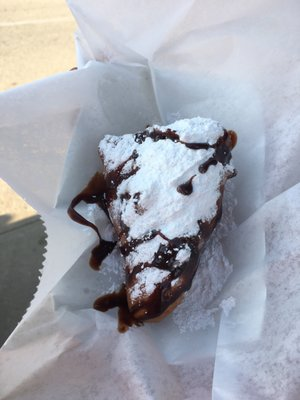sushi: (66, 116, 238, 332)
